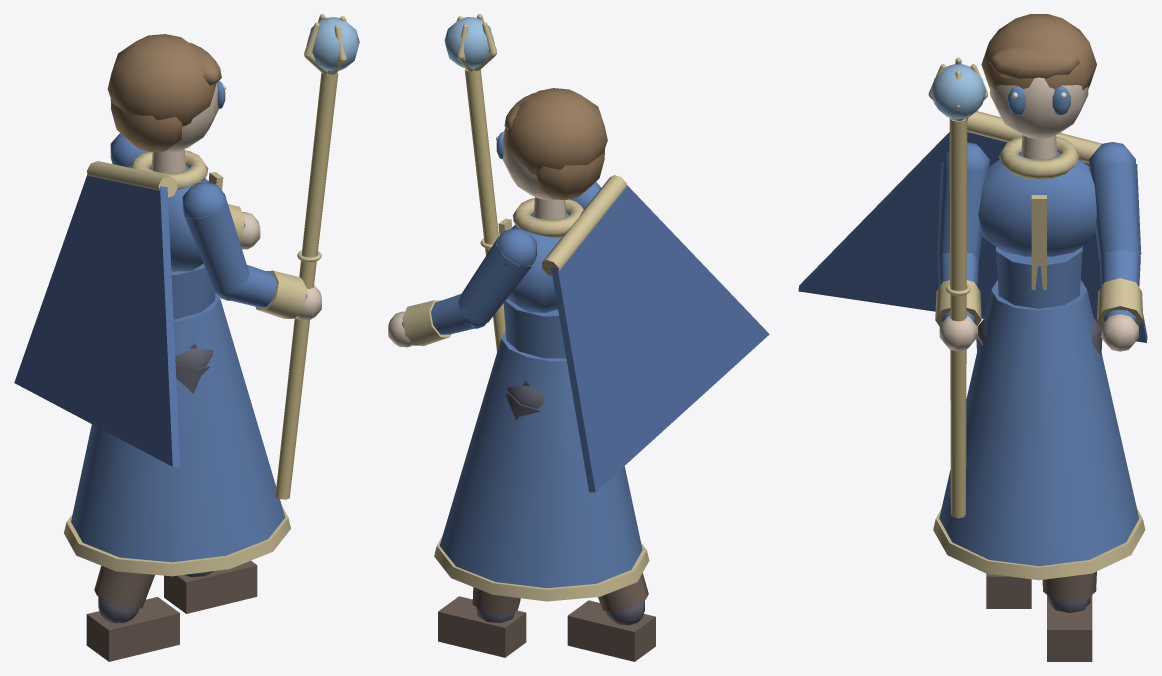
Rendered from ally_2_mage_apprentice.glb.
3 views of the same model, side by side, from view 1: azimuth 30°, elevation 25°; view 2: azimuth 150°, elevation 25°; view 3: azimuth 270°, elevation 25° (orthographic). The views are drawn at different scales.
Visible parts, largest first — view 1: Cape, Hips, Head, Weapon, ArmR, LegR, Torso, LegL, ArmL; view 2: Cape, Hips, Head, ArmL, Torso, LegL, Weapon, LegR; view 3: Hips, Cape, Torso, Head, Weapon, ArmL, ArmR, LegL, LegR.
Boxes of the visible parts, x1=… form: Cape: x1=14, y1=161, x2=180, y2=467; Hips: x1=64, y1=292, x2=290, y2=576; Head: x1=107, y1=34, x2=225, y2=152; Weapon: x1=275, y1=14, x2=359, y2=499; ArmR: x1=182, y1=182, x2=321, y2=320; LegR: x1=86, y1=348, x2=213, y2=661; Torso: x1=130, y1=149, x2=223, y2=348; LegL: x1=164, y1=560, x2=257, y2=613; ArmL: x1=110, y1=133, x2=260, y2=249; Cape: x1=542, y1=175, x2=769, y2=492; Hips: x1=434, y1=331, x2=649, y2=601; Head: x1=496, y1=88, x2=607, y2=200; ArmL: x1=388, y1=228, x2=536, y2=347; Torso: x1=498, y1=197, x2=583, y2=385; LegL: x1=438, y1=386, x2=544, y2=657; Weapon: x1=444, y1=14, x2=505, y2=351; LegR: x1=567, y1=573, x2=655, y2=661; Hips: x1=933, y1=280, x2=1145, y2=580; Cape: x1=798, y1=111, x2=1147, y2=342; Torso: x1=978, y1=135, x2=1096, y2=318; Head: x1=981, y1=14, x2=1096, y2=138; Weapon: x1=928, y1=57, x2=987, y2=518; ArmL: x1=1089, y1=142, x2=1143, y2=351; ArmR: x1=935, y1=142, x2=989, y2=351; LegL: x1=1042, y1=318, x2=1102, y2=661; LegR: x1=976, y1=318, x2=1031, y2=608.
Bounding box in the file's own units: 1.21 × 2.67 × 1.38.
